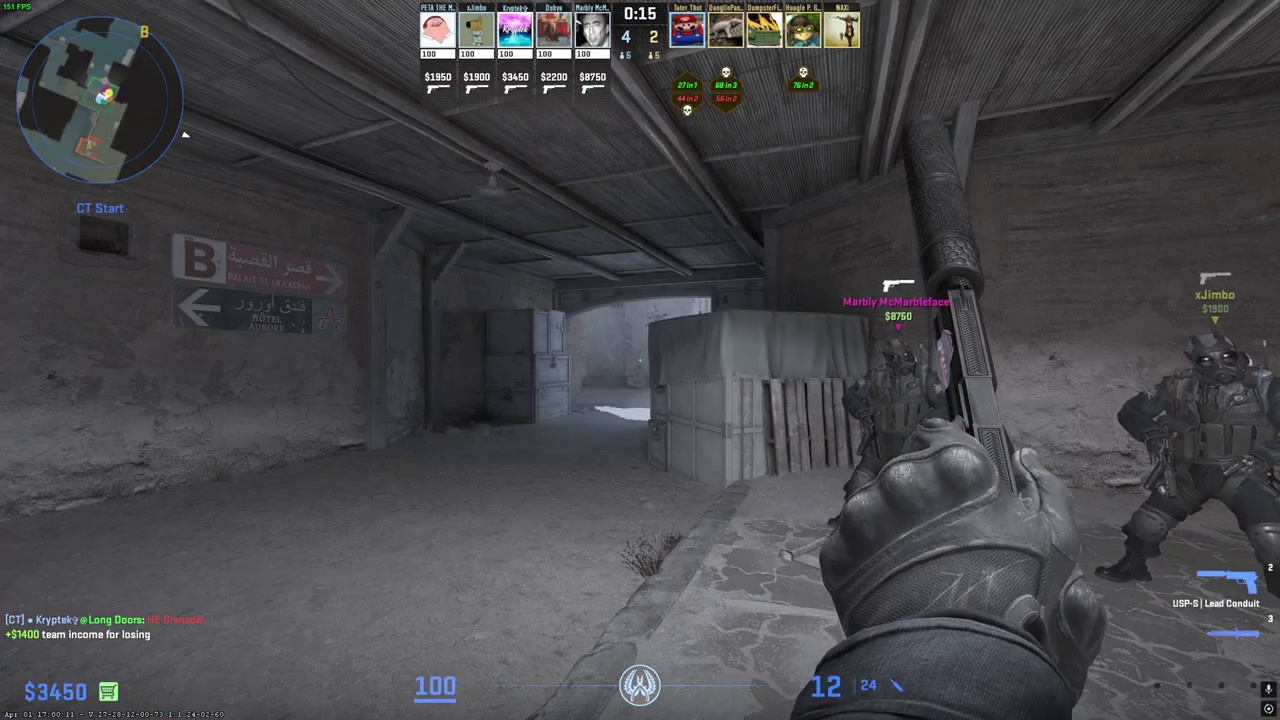CT: (1136, 331, 1279, 600), (844, 338, 946, 488)
